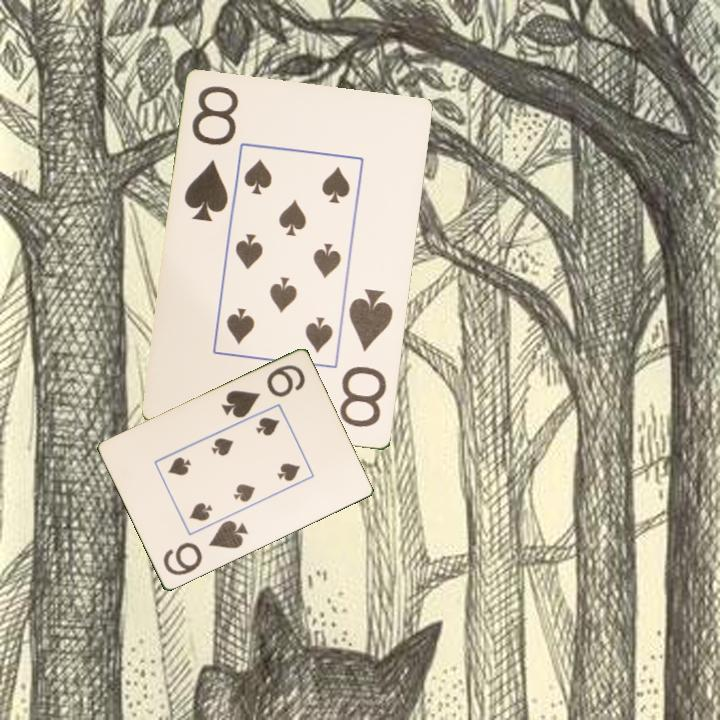6s: (159, 517, 251, 579), (217, 361, 308, 421)
8s: (181, 82, 242, 225), (336, 286, 396, 431)
